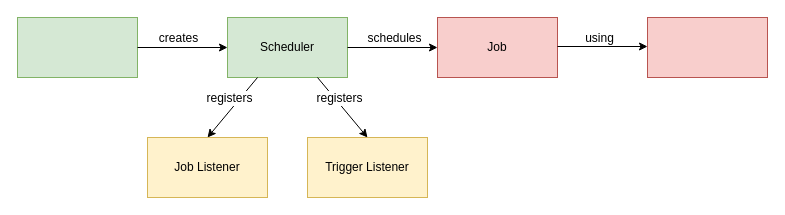
This 785x215 diagram has some shape labels left out. The shapes that lost their labels are listed below. From the top down, each one's box as (x1, y1, x2, y2) in pixels, then its label:
(16, 16, 138, 78): SchedulerFactory
(646, 16, 768, 78): Trigger
